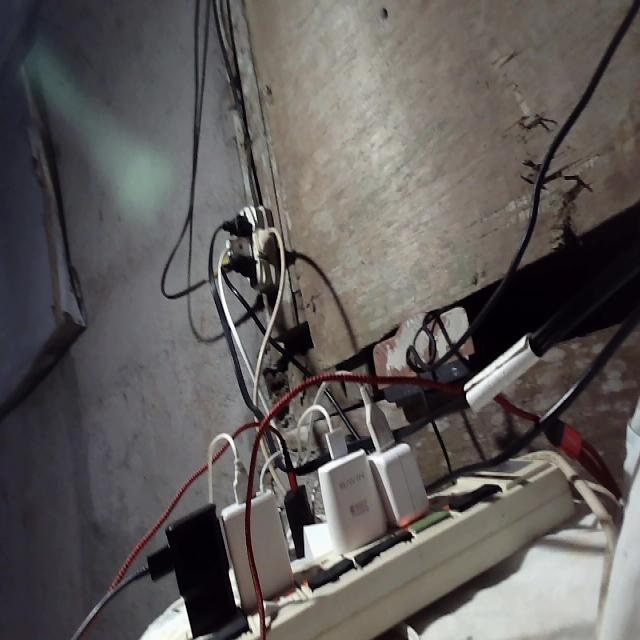-: (218, 204, 287, 293)
